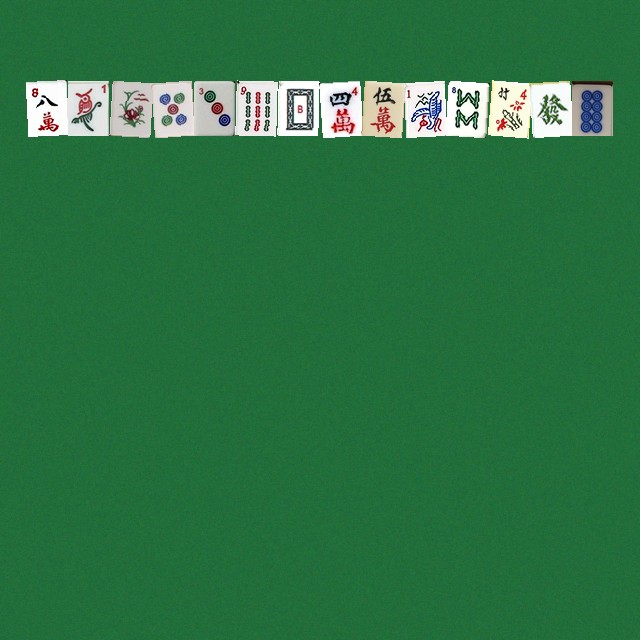tile: (25, 80, 66, 135), (67, 80, 108, 135), (109, 80, 150, 135), (151, 80, 192, 135), (193, 80, 234, 135), (235, 80, 276, 135), (277, 80, 318, 135), (319, 80, 360, 135), (361, 80, 402, 135), (403, 80, 444, 135), (445, 80, 486, 135), (487, 80, 528, 135), (529, 80, 570, 135), (571, 80, 612, 135)
